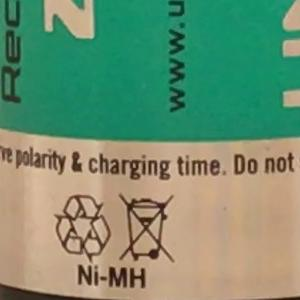keyword: (68, 257, 156, 295)
